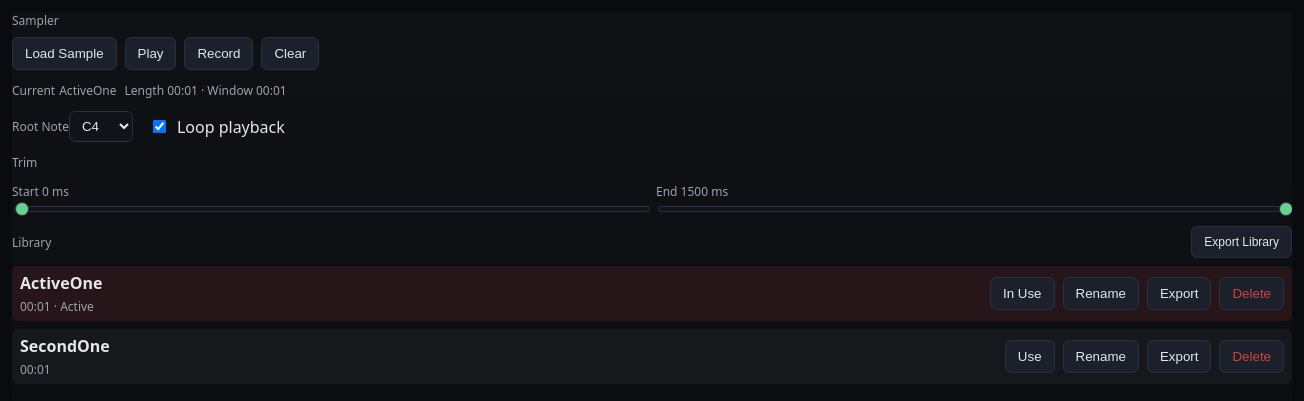
Scenario: SamplerControls › renames a library sample and truncates the stored name
Click the button "Rename" in the row of "· Active": coordinates (1101, 294) [1062,277,1139,310]
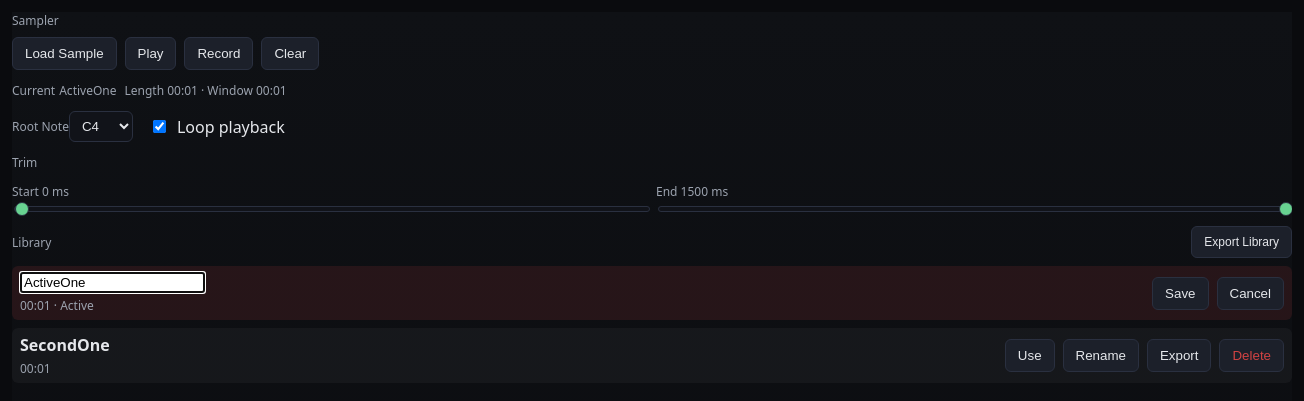
Replace the text in the field with "OrbitalsX999": coordinates (112, 282) [20,272,205,293]
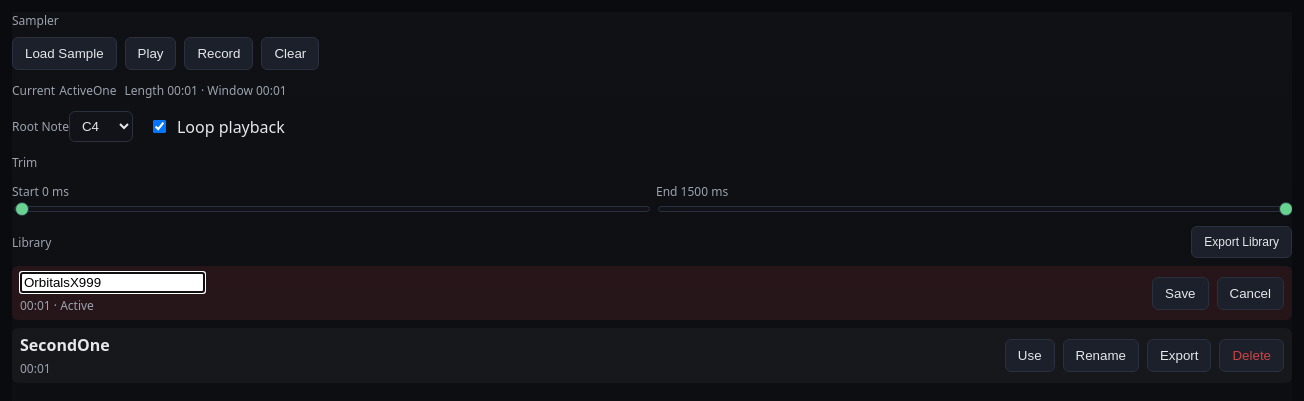
Click the button "Save": coordinates (1180, 293) [1152,276,1208,310]
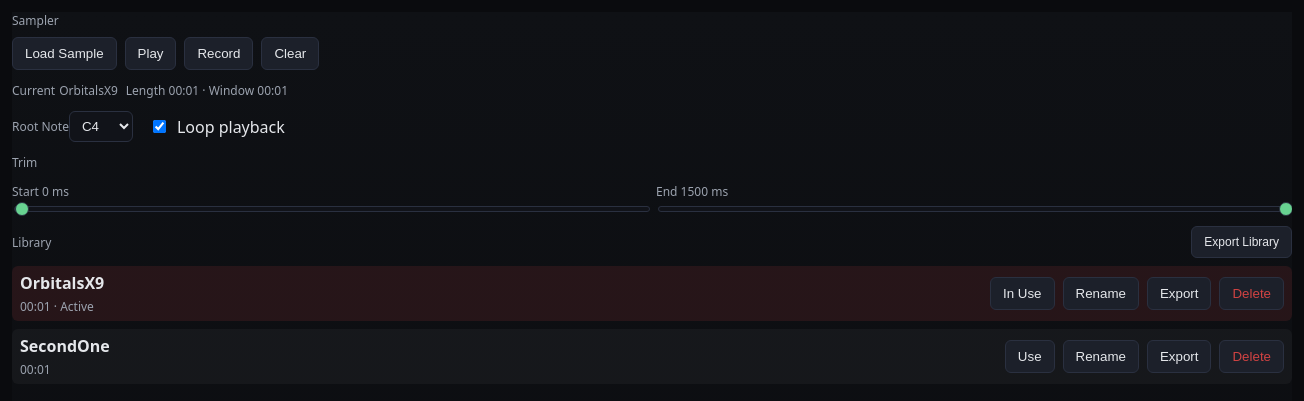
Expected: the text "OrbitalsX9" next to "Current" is shown, [59,82,118,99]
